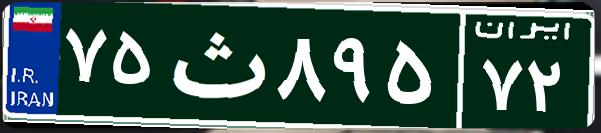2: (525, 38, 570, 115)
5: (385, 28, 445, 110), (110, 28, 158, 105)
7: (57, 26, 110, 107), (475, 38, 525, 113)
8: (273, 28, 330, 110)
9: (330, 28, 385, 110)
ث: (158, 15, 273, 115)
